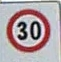limite 30: (5, 7, 51, 52)
